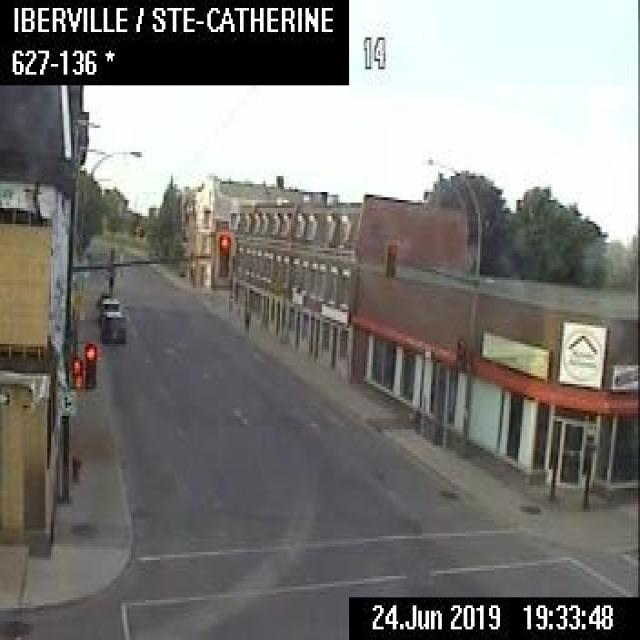vehicle: (96, 310, 124, 341), (99, 295, 119, 322)
